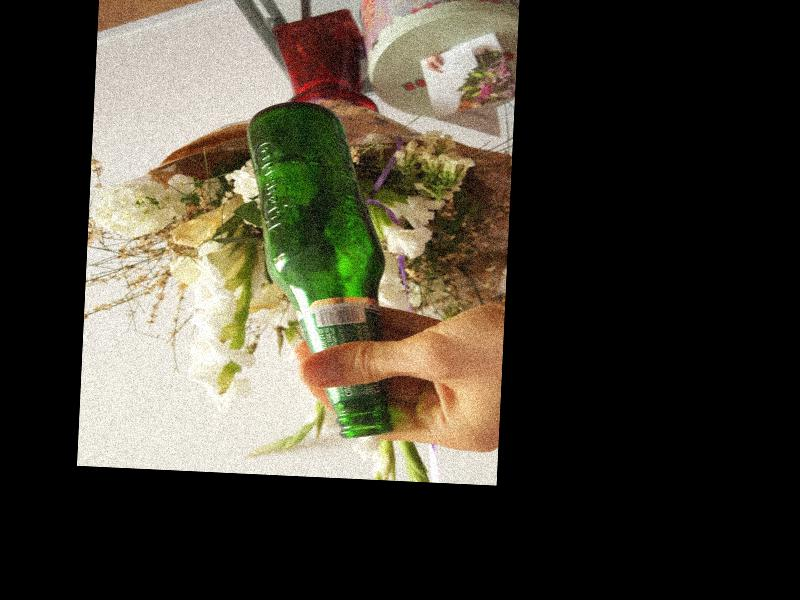Beer: (233, 99, 392, 439)
